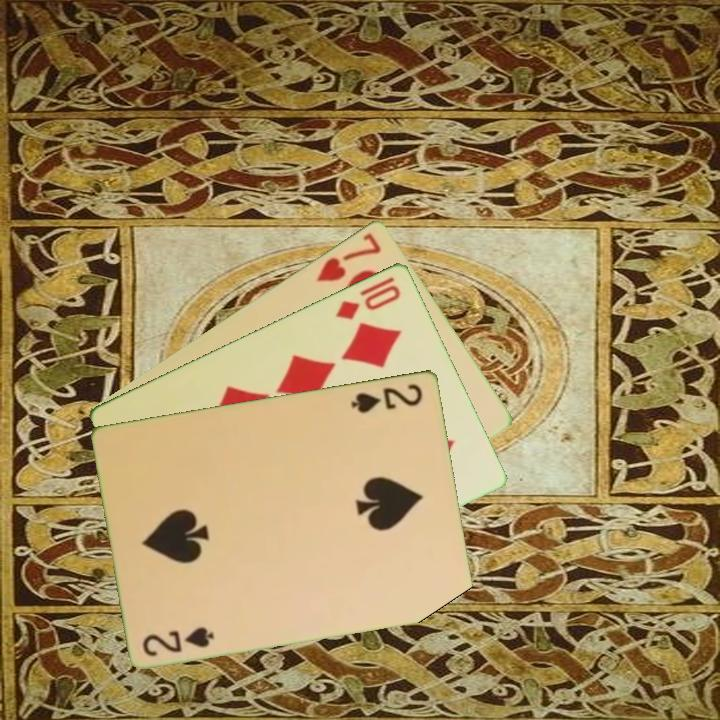10d: (332, 281, 404, 323)
2s: (348, 379, 426, 416), (139, 623, 218, 659)
7h: (312, 228, 385, 285)
